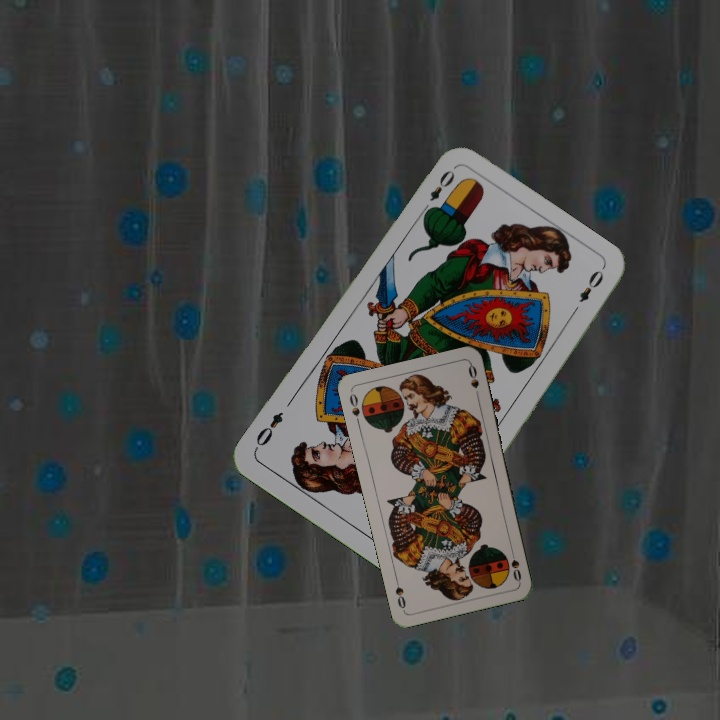EO: (417, 165, 458, 217)
SO: (345, 389, 363, 429), (507, 544, 524, 584)
